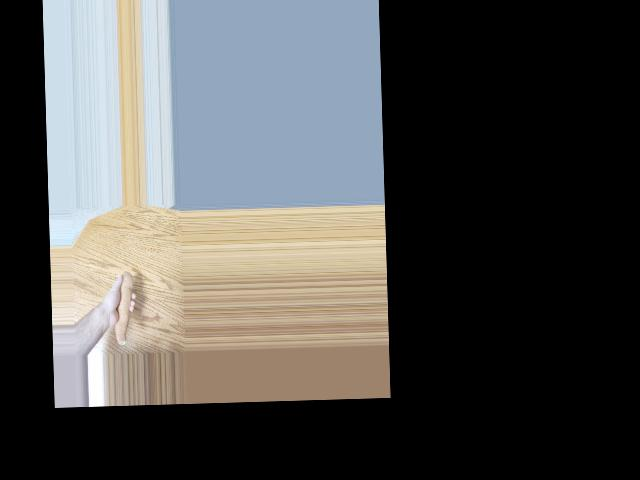sweet_potato: (111, 272, 137, 344)
